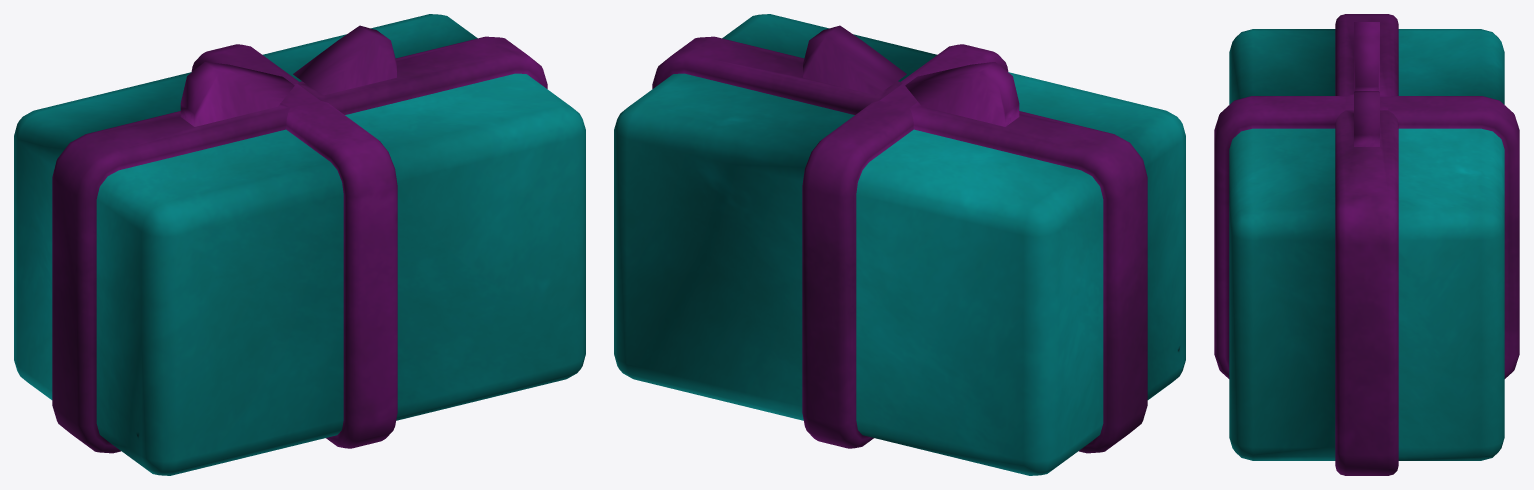
The model's file is Presente_G_Ciano.fbx.
The picture shows the model from 3 angles, left to right: view 1: azimuth 30°, elevation 25°; view 2: azimuth 150°, elevation 25°; view 3: azimuth 270°, elevation 25°; orthographic projection. The views are drawn at different scales.
Visible parts, largest first — view 1: Presente_G_Ciano; view 2: Presente_G_Ciano; view 3: Presente_G_Ciano.
Boxes of the visible parts, x1,y1,x2,y2 form: Presente_G_Ciano: [14, 14, 585, 475]; Presente_G_Ciano: [614, 14, 1185, 475]; Presente_G_Ciano: [1214, 14, 1519, 475].
Bounding box in the file's own units: 47.04 × 33.49 × 28.83.
Materials: 1 (1 with a texture image).
